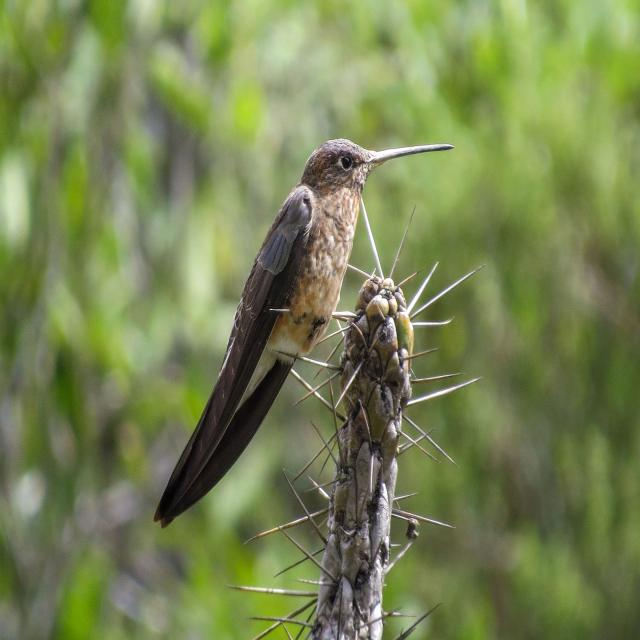Humming Bird: (146, 122, 462, 535)
